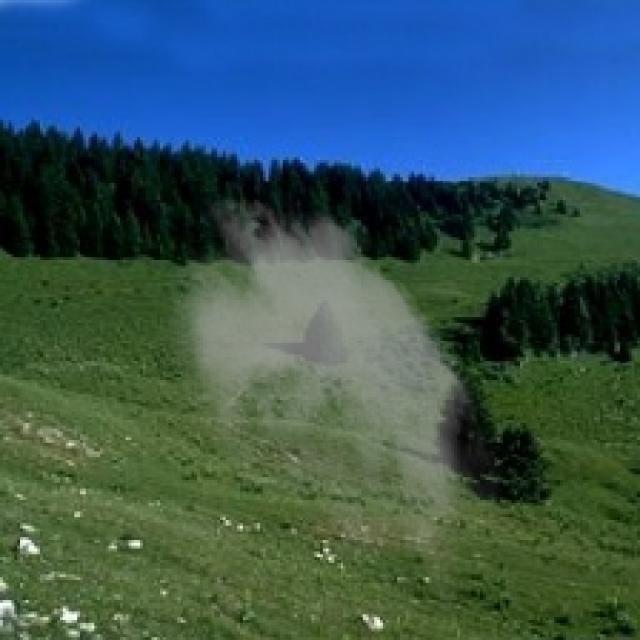smoke: (152, 183, 512, 608)
